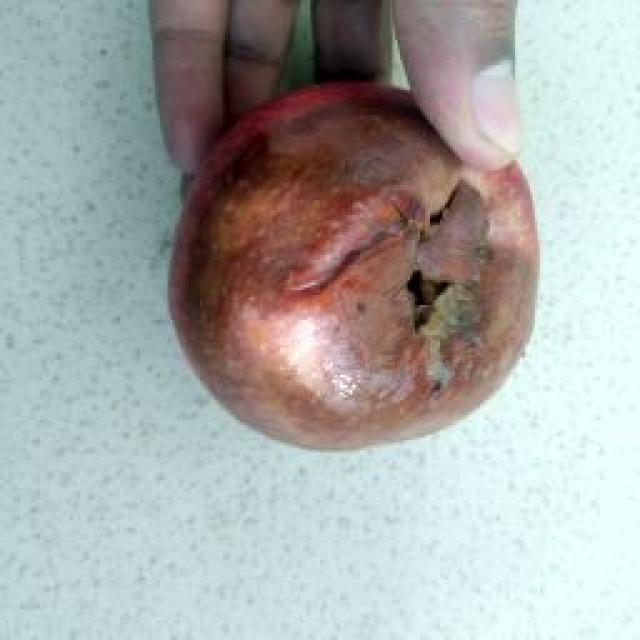Bad_Apple: (170, 84, 539, 448)
